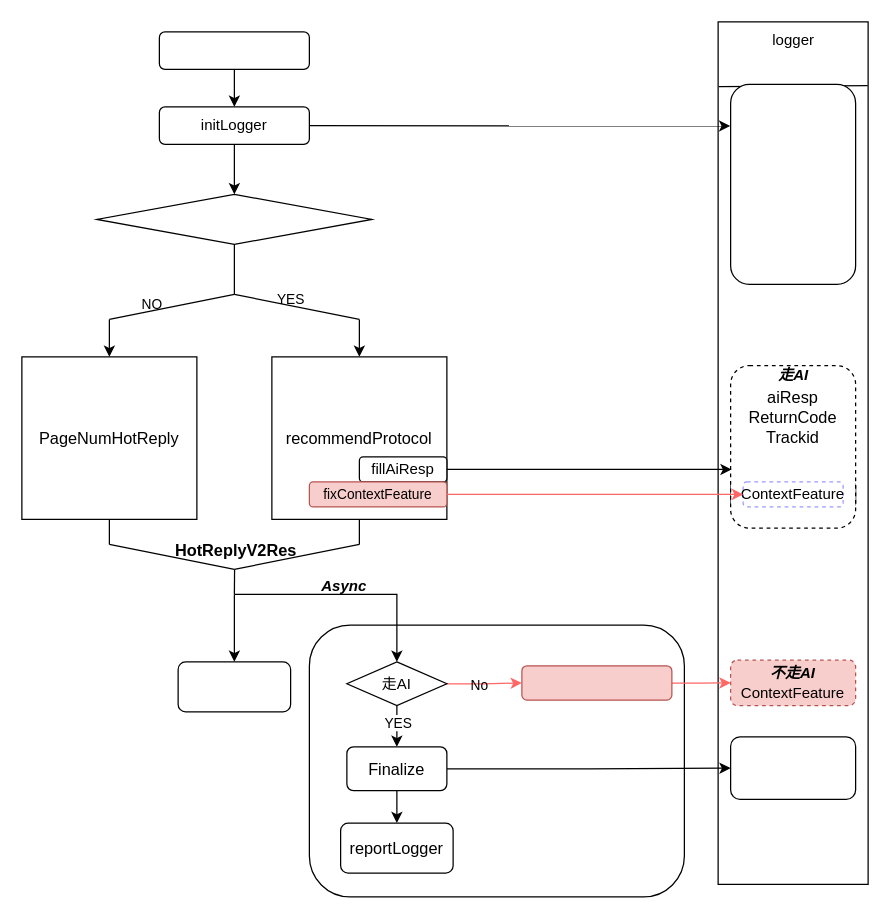
This 891x919 diagram has some shape labels left out. Here are the shapes that lost their labels. From the top down, the centre of each, then its label:
At [233,50]: "HotReplyV2".
At [792,183]: "初始化填充的字段".
At [234,218]: "useRecommendProtocol ?".
At [234,686]: "return HotReplyV2Res".
At [596,682]: "fixLogger".
At [792,767]: "根据HotReplyV2Res 填充的字段".
